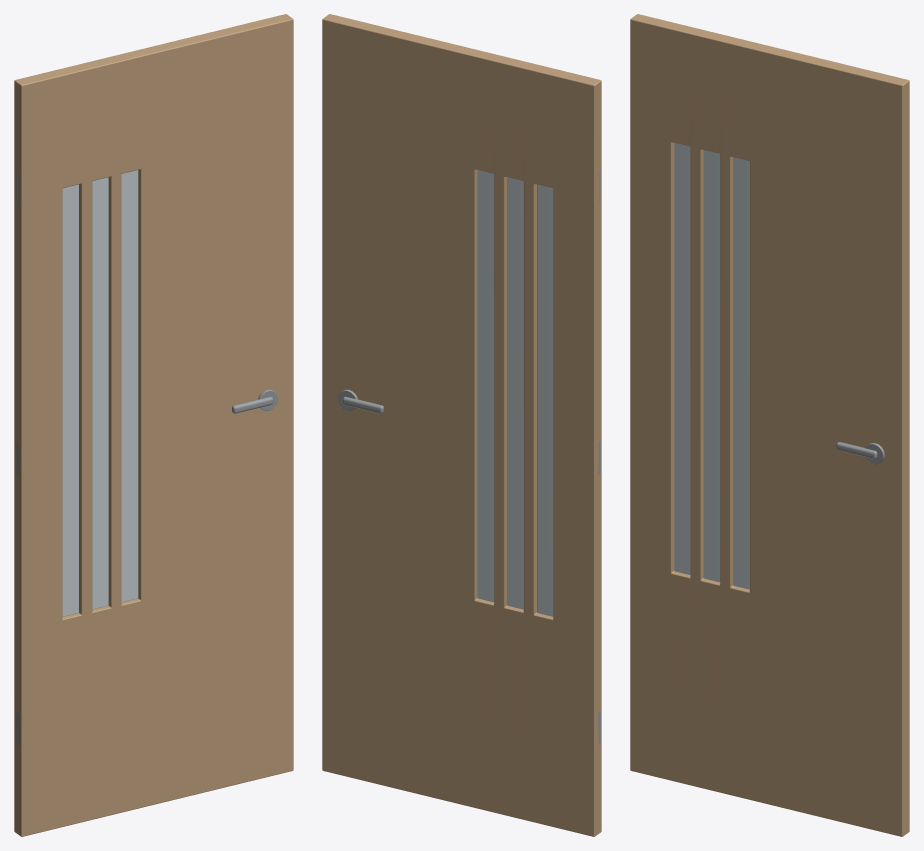
File: original-door-slit.glb
3 renders of one model, left to right at view 1: azimuth 30°, elevation 25°; view 2: azimuth 150°, elevation 25°; view 3: azimuth 330°, elevation 25°, orthographic.
Visible parts, largest first — view 1: original-door-slit; view 2: original-door-slit; view 3: original-door-slit.
Boxes of the visible parts, x1,y1,x2,y2 form: original-door-slit: [14, 14, 293, 836]; original-door-slit: [322, 14, 601, 836]; original-door-slit: [630, 14, 909, 836].
Bounding box in the file's own units: 0.755 × 1.99 × 0.07.
